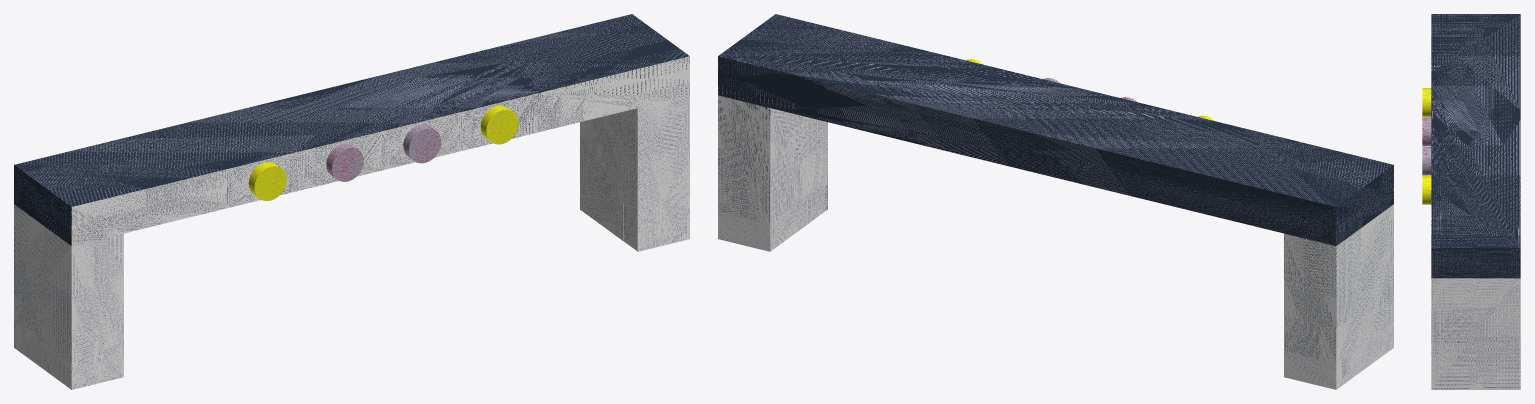
The model's file is Traffic_Lights.fbx.
3 renders of one model, left to right at view 1: azimuth 30°, elevation 25°; view 2: azimuth 150°, elevation 25°; view 3: azimuth 270°, elevation 25°, orthographic. The views are drawn at different scales.
Visible parts, largest first — view 1: Model; view 2: Model; view 3: Model.
Boxes of the visible parts, x1=… form: Model: x1=14, y1=14, x2=689, y2=389; Model: x1=718, y1=14, x2=1393, y2=389; Model: x1=1422, y1=14, x2=1520, y2=389.
Size of the model in its own units: 24.76 by 7 by 4.4.
